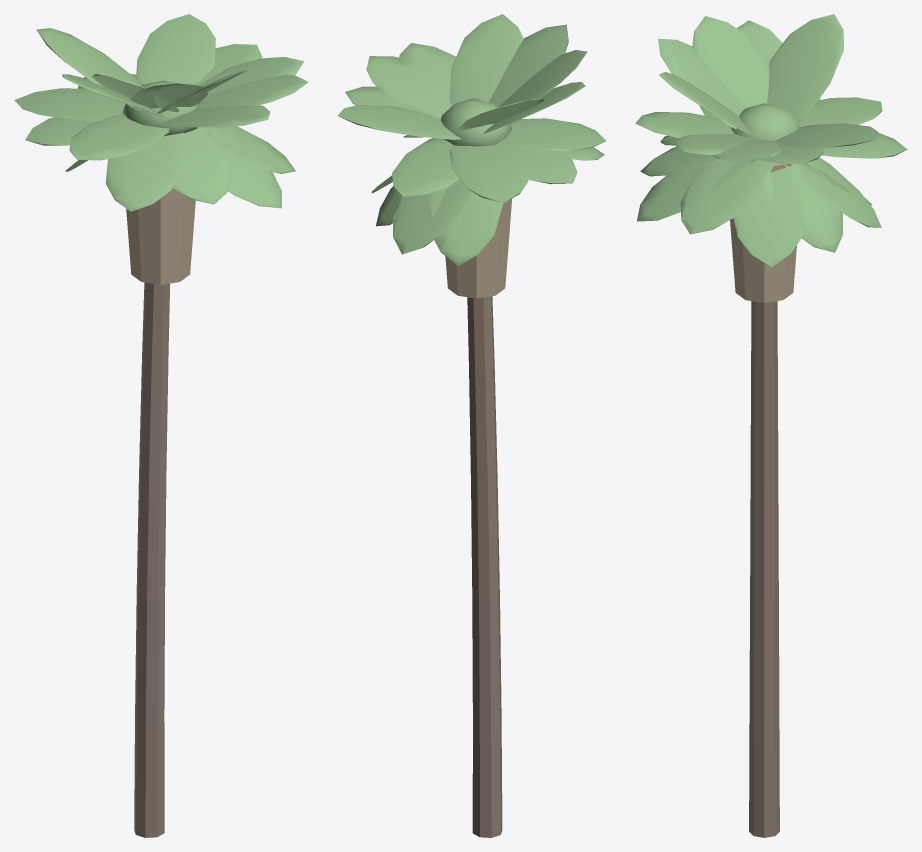
The model's file is tree-palm-fan-a.glb.
3 renders of one model, left to right at view 1: azimuth 30°, elevation 25°; view 2: azimuth 150°, elevation 25°; view 3: azimuth 270°, elevation 25°, orthographic. The views are drawn at different scales.
Visible parts, largest first — view 1: tree-palm-fan-a; view 2: tree-palm-fan-a; view 3: tree-palm-fan-a.
Boxes of the visible parts, x1=… form: tree-palm-fan-a: x1=14, y1=14, x2=308, y2=837; tree-palm-fan-a: x1=337, y1=14, x2=606, y2=837; tree-palm-fan-a: x1=635, y1=14, x2=907, y2=837.
Size of the model in its own units: 0.321 by 1 by 0.3165.
